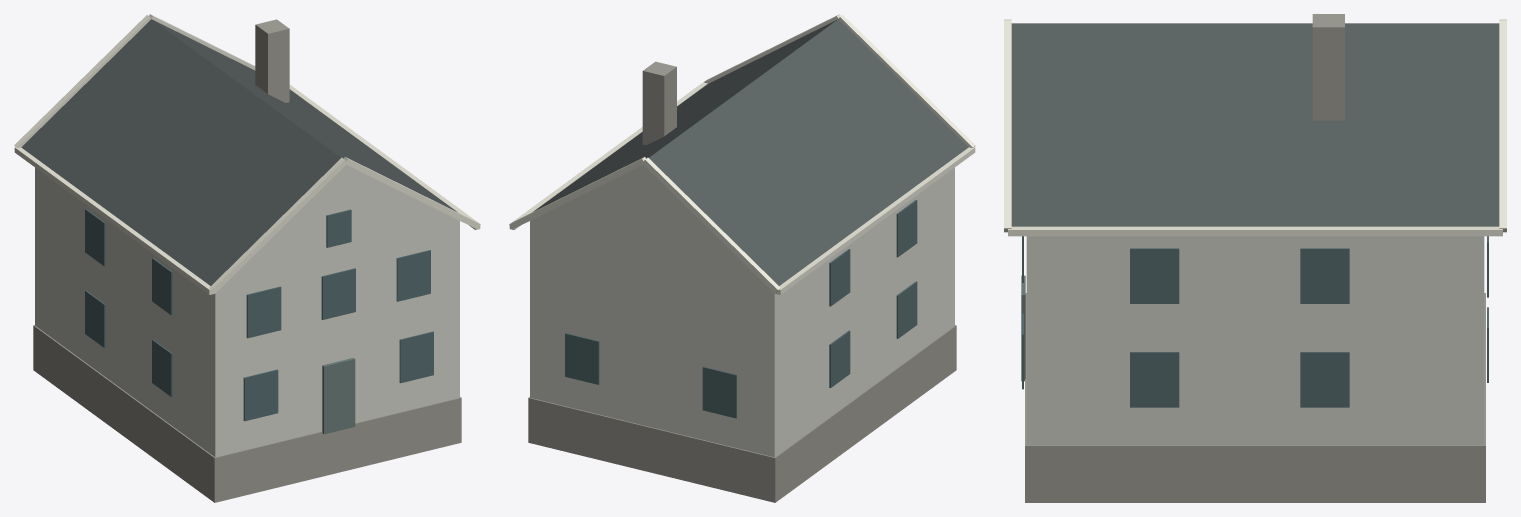
Rendered from house_far.glb.
The picture shows the model from 3 angles, left to right: view 1: azimuth 30°, elevation 25°; view 2: azimuth 150°, elevation 25°; view 3: azimuth 270°, elevation 25°; orthographic projection. The views are drawn at different scales.
Visible parts, largest first — view 1: house_far; view 2: house_far; view 3: house_far.
Boxes of the visible parts, <box> form: house_far: <box>14,14,480,502</box>; house_far: <box>509,14,975,502</box>; house_far: <box>1004,14,1506,502</box>.
Size of the model in its own units: 8.86 by 10.8 by 11.21.
